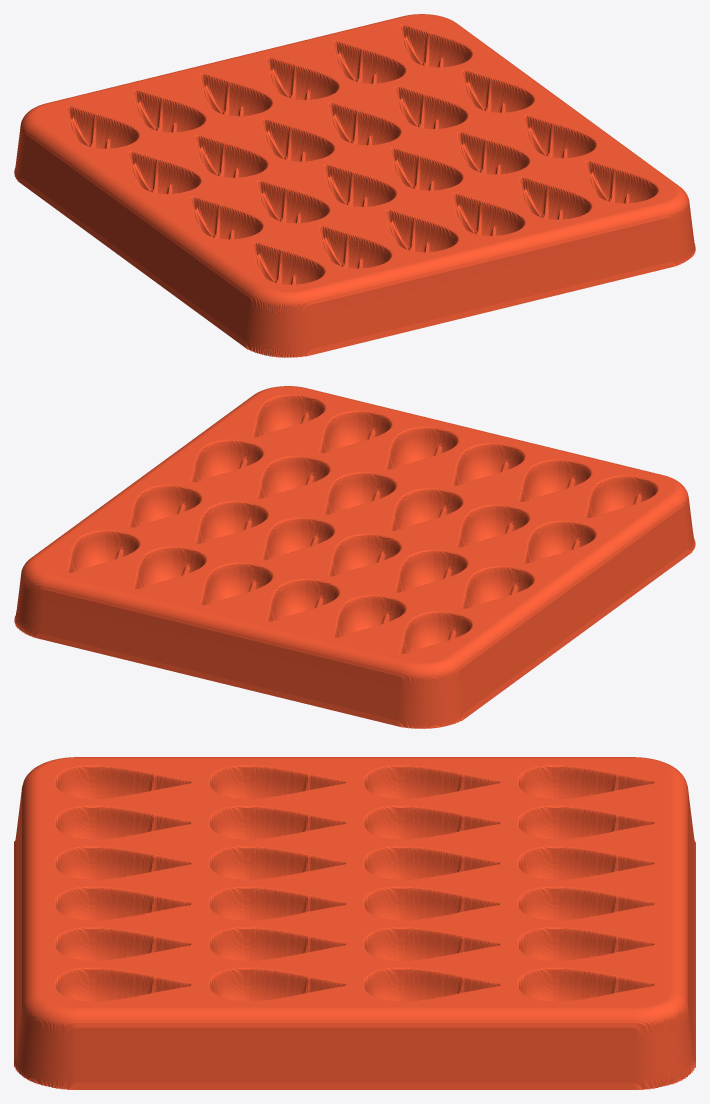
File: mold.glb
3 views of the same model, one above another, from view 1: azimuth 30°, elevation 25°; view 2: azimuth 150°, elevation 25°; view 3: azimuth 270°, elevation 25° (orthographic). The views are drawn at different scales.
Parts seen in each view (by area): view 1: geometry_0; view 2: geometry_0; view 3: geometry_0.
Boxes of the visible parts, x1,y1,x2,y2 form: geometry_0: [14, 14, 695, 357]; geometry_0: [14, 386, 695, 728]; geometry_0: [14, 757, 695, 1089].
Bounding box in the file's own units: 0.0919 × 0.0113 × 0.098.
